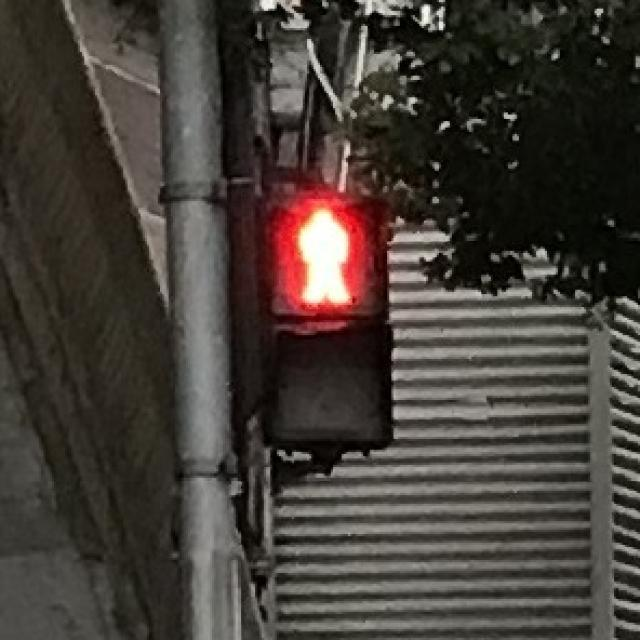red-crossing: (257, 197, 383, 320)
